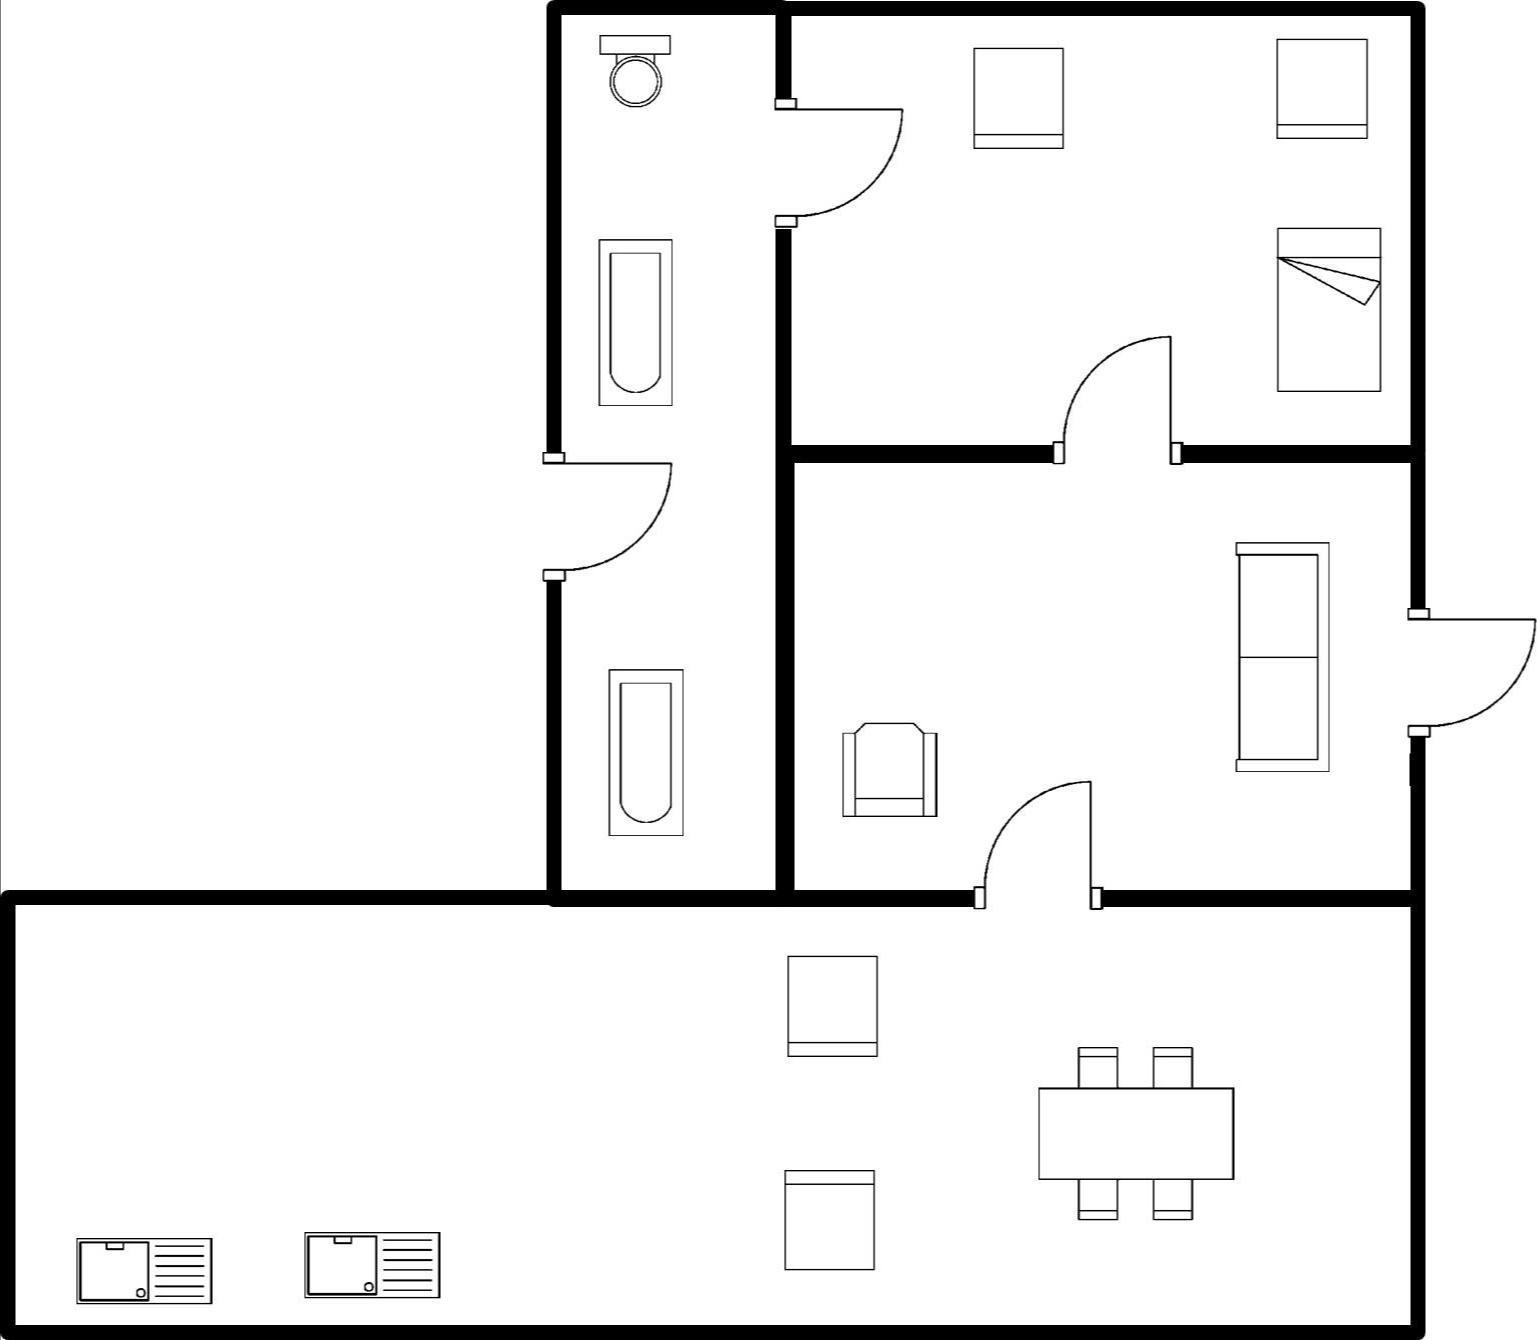bed: (1266, 220, 1388, 401)
dining_table: (1027, 1037, 1249, 1228)
sink: (65, 1225, 223, 1313), (297, 1221, 450, 1307)
sofa: (1223, 527, 1345, 780)
toilet: (593, 24, 682, 115)
tub: (588, 229, 685, 414), (604, 659, 697, 843)
